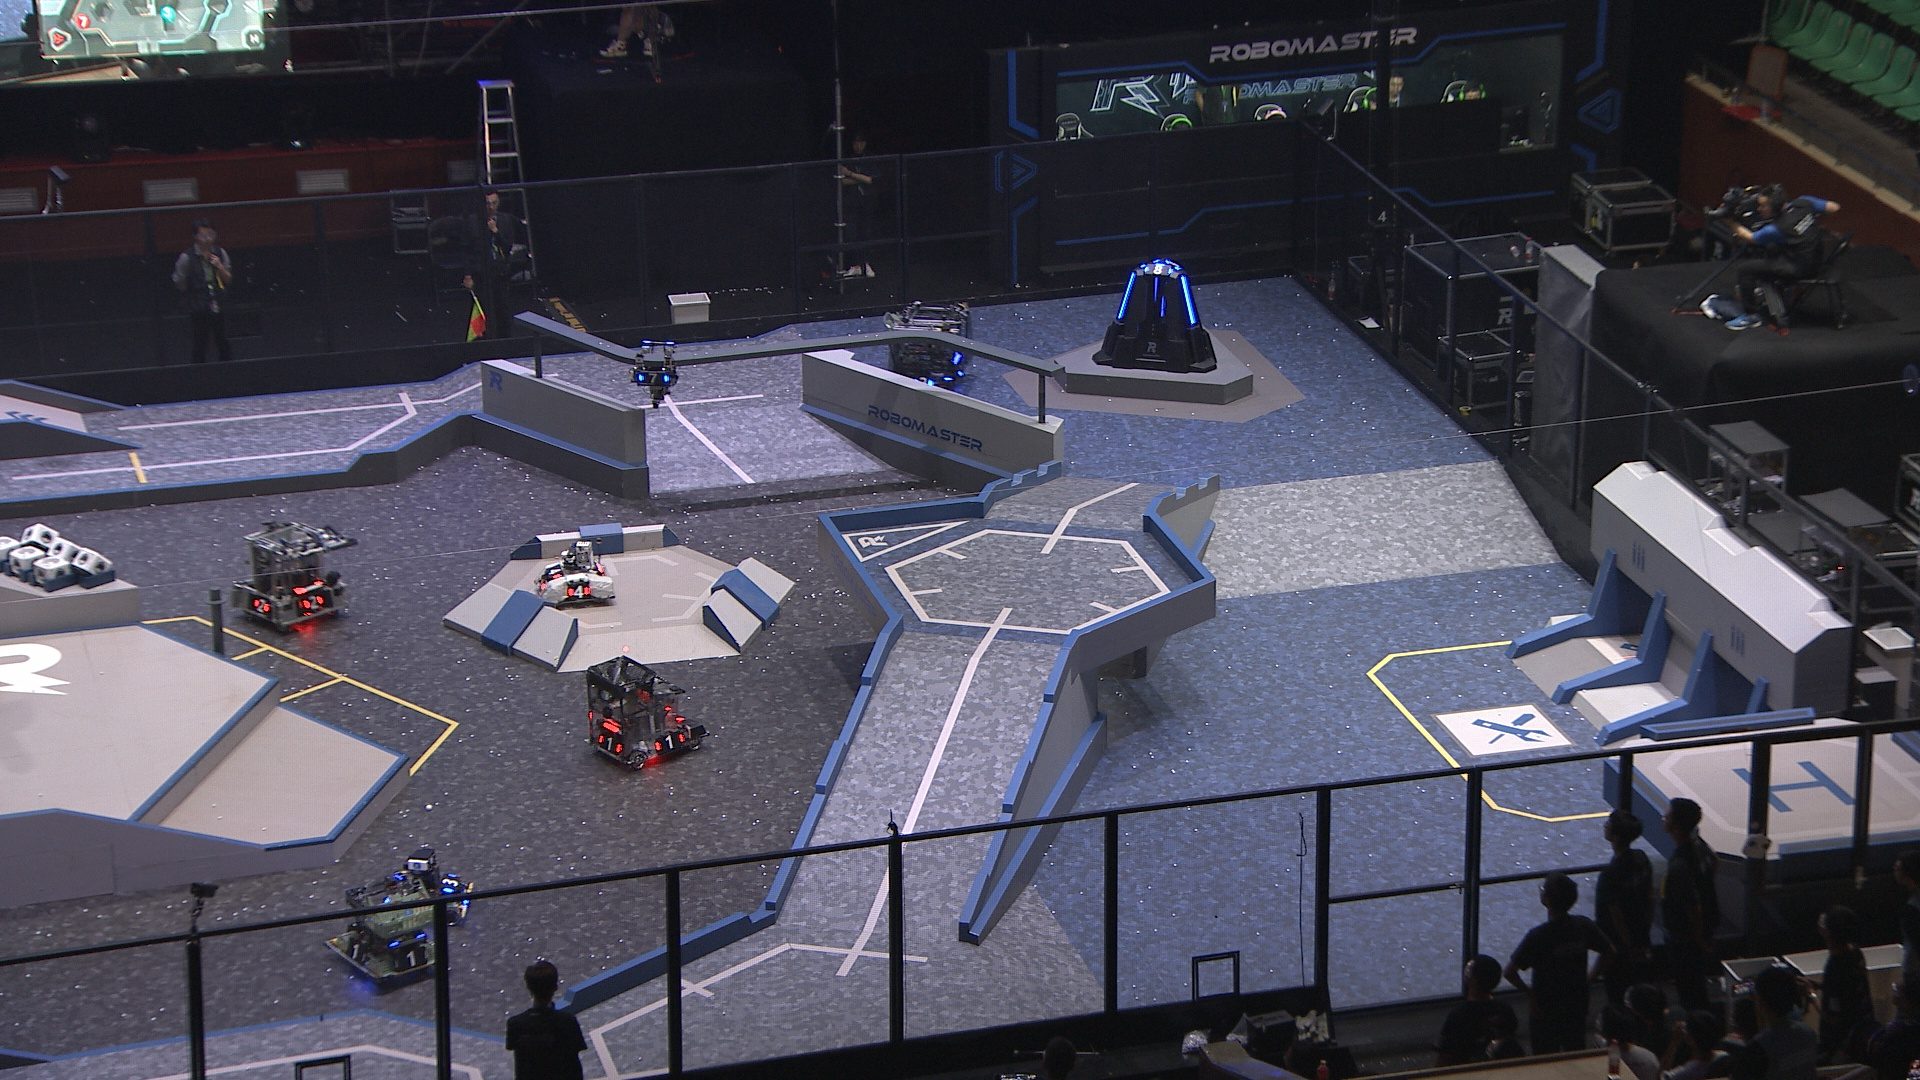armor: (1116, 272, 1138, 319), (392, 948, 430, 973), (1179, 276, 1197, 324), (344, 938, 371, 965), (596, 733, 624, 756), (655, 731, 684, 752), (637, 371, 671, 386), (301, 593, 327, 612), (440, 874, 462, 895), (1145, 264, 1176, 277), (251, 597, 272, 615), (567, 584, 591, 599), (1153, 276, 1163, 305), (913, 375, 935, 386), (1158, 295, 1168, 320), (547, 564, 564, 579)
base: (1092, 261, 1218, 373)
car: (585, 651, 708, 777), (324, 874, 448, 984), (233, 520, 348, 633), (884, 301, 975, 394), (378, 847, 475, 926), (535, 541, 617, 609)
watcher: (629, 338, 680, 411)
